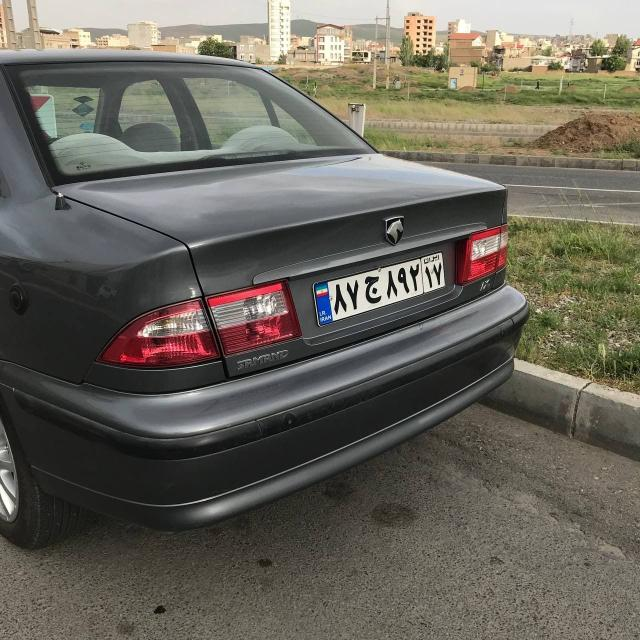Plates: (307, 244, 452, 326)
